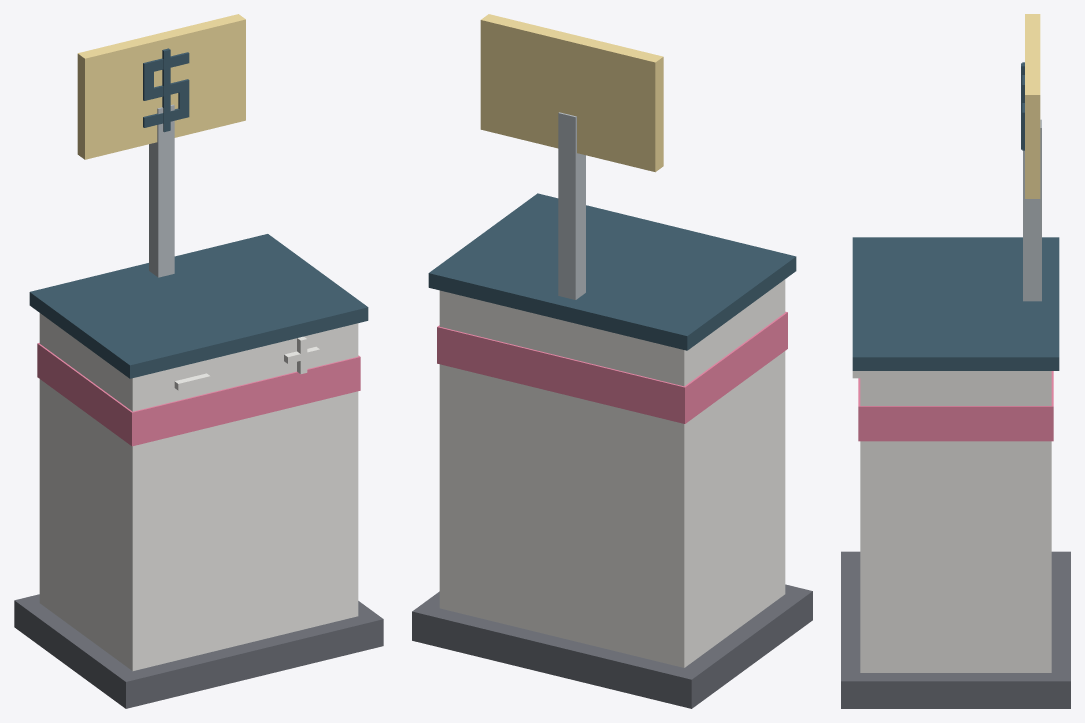
File: PriceStand.fbx
The picture shows the model from 3 angles, left to right: view 1: azimuth 30°, elevation 25°; view 2: azimuth 150°, elevation 25°; view 3: azimuth 270°, elevation 25°; orthographic projection. The views are drawn at different scales.
Visible parts, largest first — view 1: PriceStand; view 2: PriceStand; view 3: PriceStand.
Boxes of the visible parts, x1,y1,x2,y2 form: PriceStand: (14, 14, 383, 708); PriceStand: (412, 14, 812, 708); PriceStand: (841, 14, 1070, 708).
Bounding box in the file's own units: 0.8 × 1.7 × 0.6.
